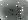person: (19, 5, 25, 17)
